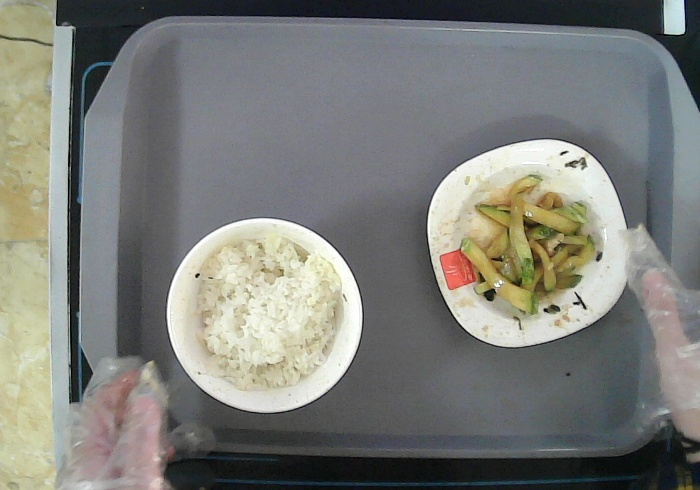SHKJ-Bai_Se_Si_Fang_Cai_Die: (425, 134, 634, 353)
SHKJ-Fan_Wan: (165, 214, 366, 417)
